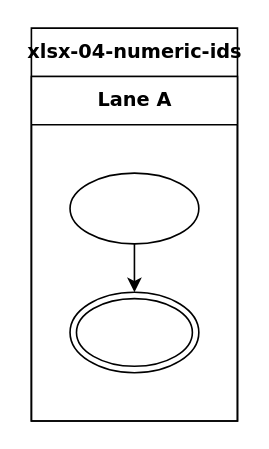
The diagram is 269 pixels wide and 449 high, and some of its shapes have lost their labels. The shapes that lost their labels are listed below. From the top down, each one's centre as x and y in pixels, then its label:
[133,207]: Vào
[133,332]: Xong
